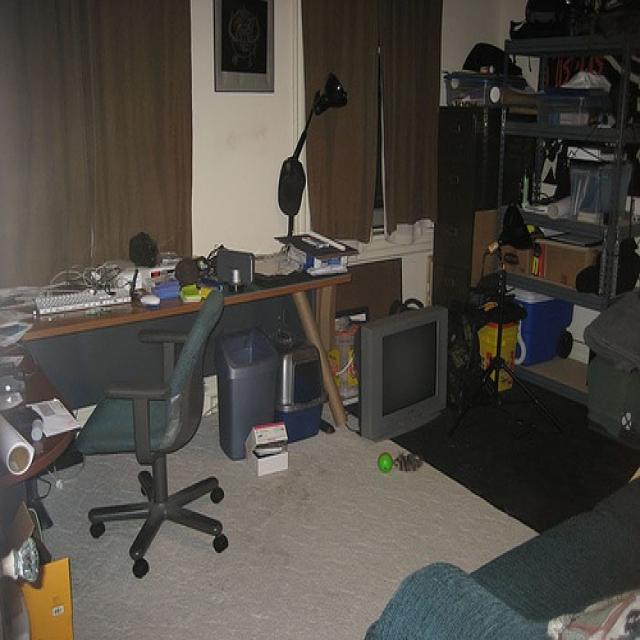chair: (76, 283, 226, 570)
sofa: (371, 468, 639, 638)
tvmonitor: (360, 298, 448, 434)
